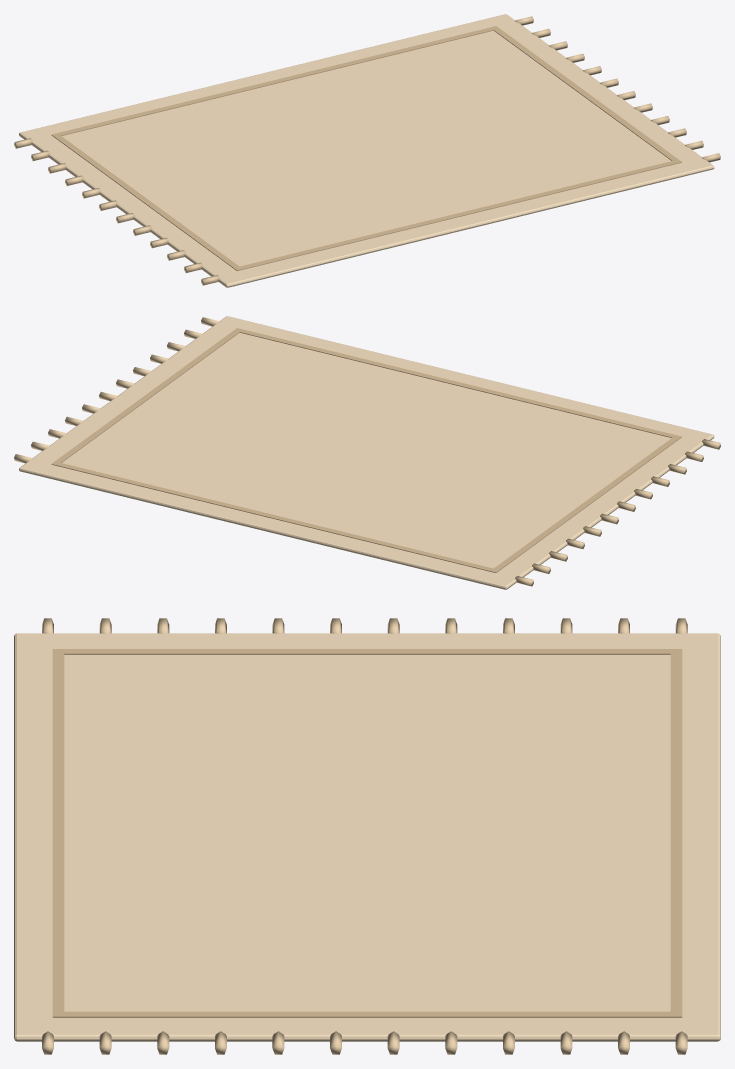
The model's file is rug.glb.
3 views of the same model, one above another, from view 1: azimuth 30°, elevation 25°; view 2: azimuth 150°, elevation 25°; view 3: azimuth 270°, elevation 25° (orthographic). The views are drawn at different scales.
Parts seen in each view (by area): view 1: rug_weave, rug_border_long_1, rug_border_long_-1, rug_border_end_-1, rug_border_end_1; view 2: rug_weave, rug_border_long_-1, rug_border_long_1, rug_border_end_1, rug_border_end_-1; view 3: rug_weave, rug_border_long_1, rug_border_long_-1, rug_border_end_1, rug_border_end_-1.
Part boxes in pixels (bbox=[...]): rug_weave: bbox=[19, 14, 714, 287]; rug_border_long_1: bbox=[53, 26, 498, 136]; rug_border_long_-1: bbox=[237, 160, 681, 270]; rug_border_end_-1: bbox=[51, 133, 242, 270]; rug_border_end_1: bbox=[491, 26, 681, 162]; rug_weave: bbox=[19, 316, 714, 589]; rug_border_long_-1: bbox=[234, 328, 681, 438]; rug_border_long_1: bbox=[51, 463, 495, 572]; rug_border_end_1: bbox=[52, 328, 242, 465]; rug_border_end_-1: bbox=[491, 435, 681, 572]; rug_weave: bbox=[14, 633, 720, 1041]; rug_border_long_1: bbox=[670, 649, 682, 1017]; rug_border_long_-1: bbox=[52, 649, 64, 1017]; rug_border_end_1: bbox=[53, 1011, 681, 1017]; rug_border_end_-1: bbox=[53, 649, 681, 654].
Bounding box in the file's own units: 3.86 × 0.048 × 2.7.
